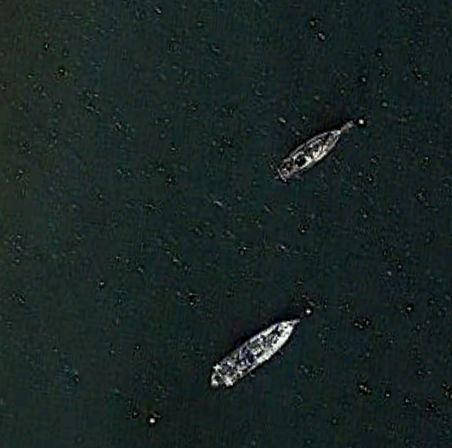boat: (212, 315, 304, 386), (276, 119, 353, 181)
